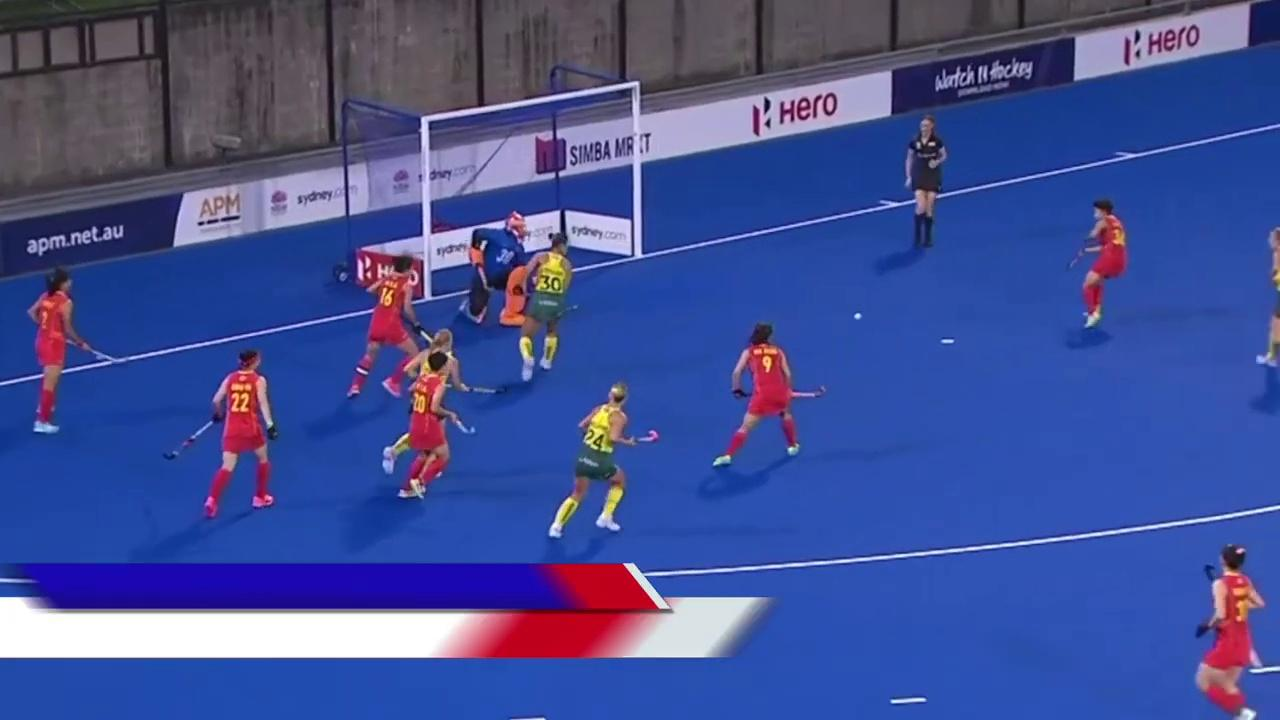ball: (845, 311, 863, 327)
